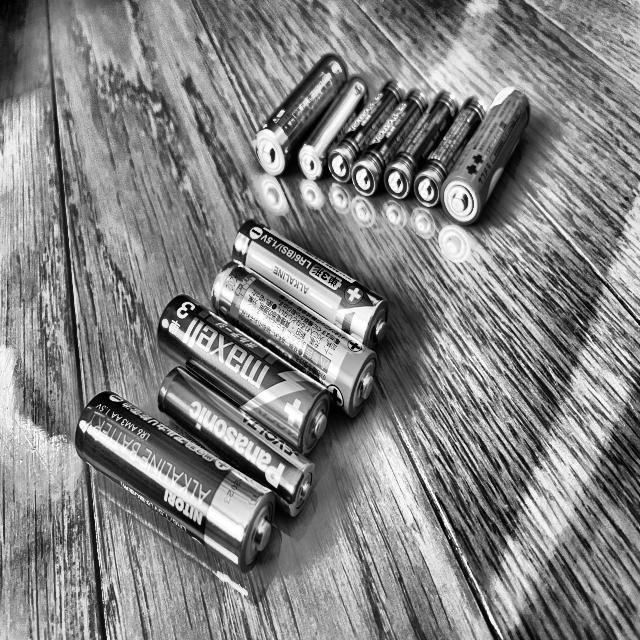drycell: (73, 388, 278, 574), (154, 364, 322, 519)
